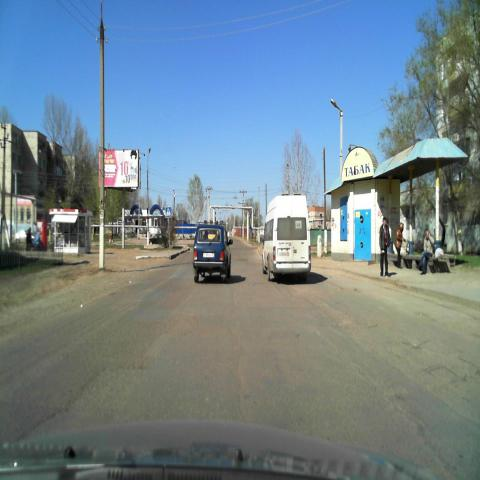5_19_1: (166, 206, 171, 218)
